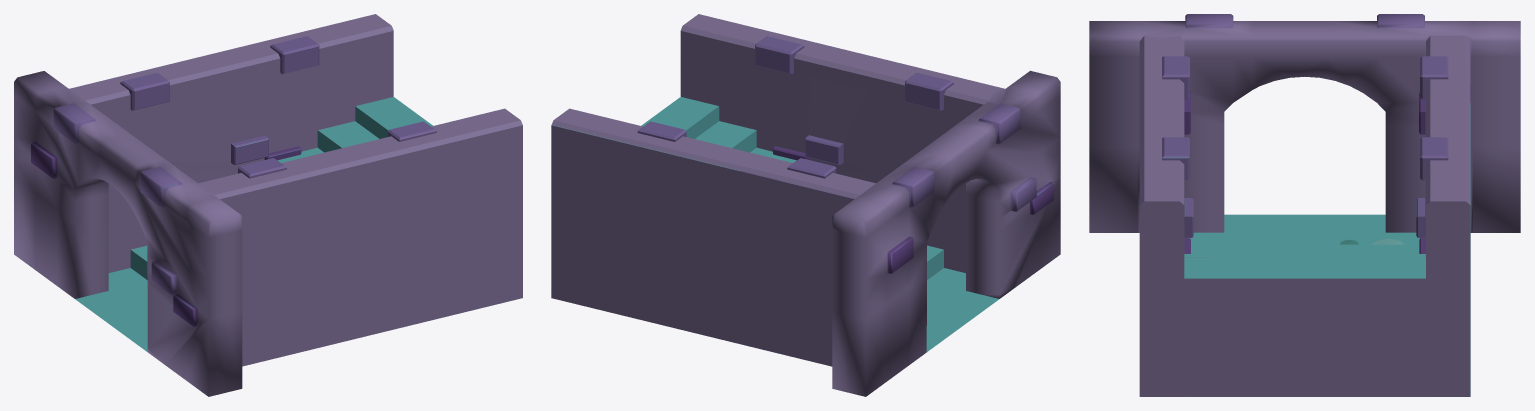
File: StairsBake.glb
The picture shows the model from 3 angles, left to right: view 1: azimuth 30°, elevation 25°; view 2: azimuth 150°, elevation 25°; view 3: azimuth 270°, elevation 25°; orthographic projection. The views are drawn at different scales.
Parts seen in each view (by area): view 1: Bake; view 2: Bake; view 3: Bake.
Boxes of the visible parts, x1,y1,x2,y2 form: Bake: (14,14,522,396); Bake: (551,14,1060,396); Bake: (1089,14,1520,396).
Size of the model in its own units: 10.21 by 5.1 by 10.
1 material, 1 textured.
